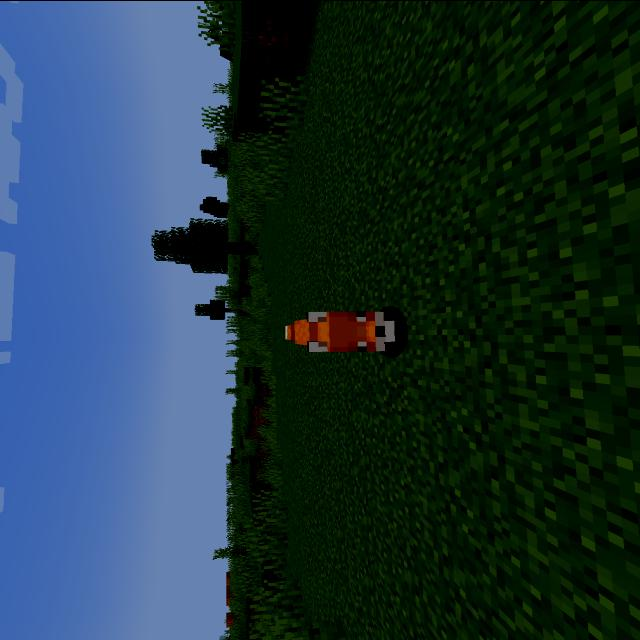Fox: (274, 306, 410, 356)
